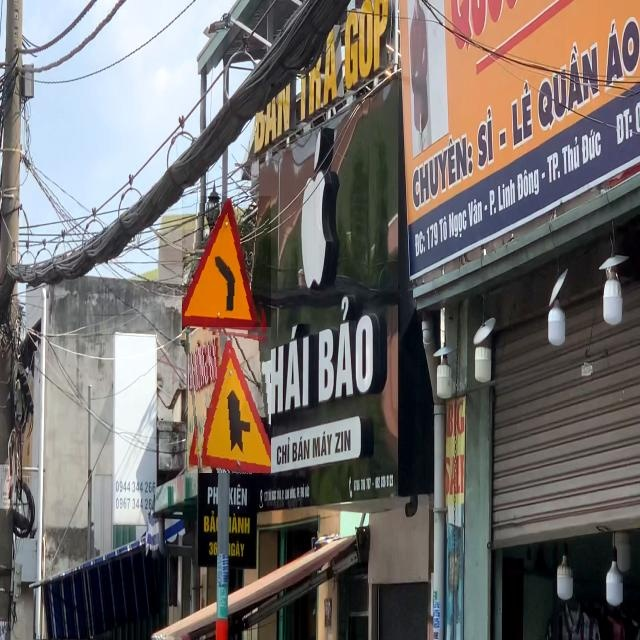bien_nguy_hiem: (182, 196, 271, 340), (185, 327, 271, 473)
